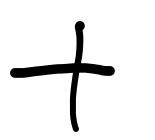plus: (10, 21, 115, 133)
